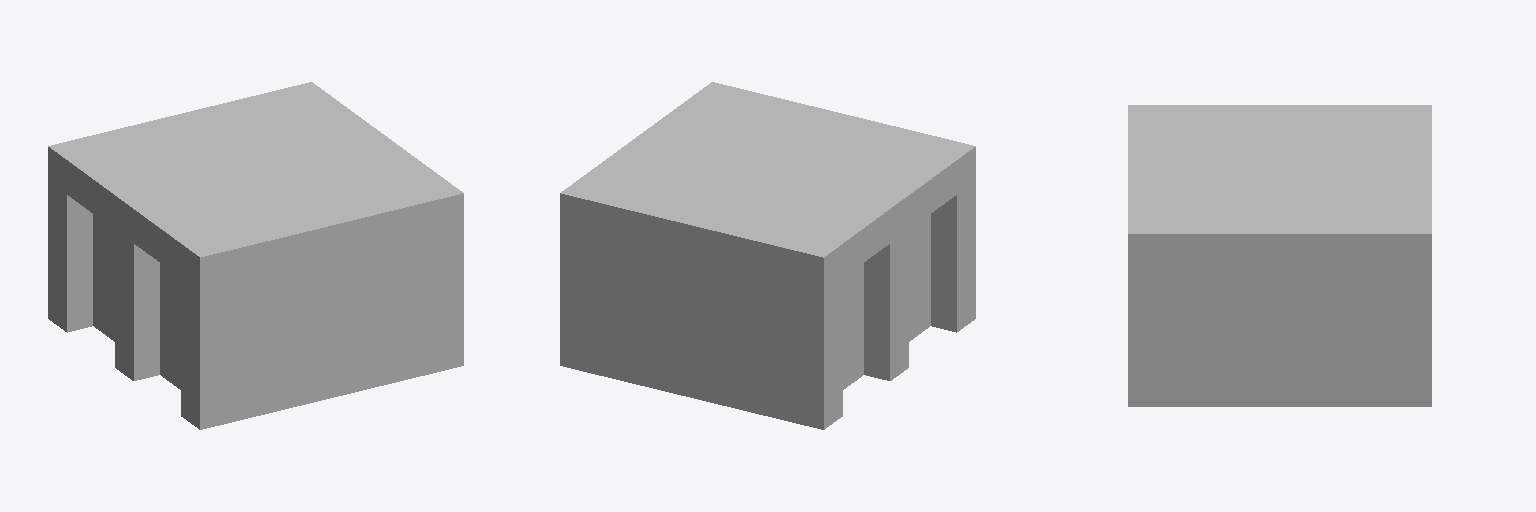
3 views of the same model, side by side, from view 1: azimuth 30°, elevation 25°; view 2: azimuth 150°, elevation 25°; view 3: azimuth 270°, elevation 25° (orthographic).
Visible parts, largest first — view 1: G-__555807_G-__555807_Brick, G-__555807_G-__555807_Glass; view 2: G-__555807_G-__555807_Brick, G-__555807_G-__555807_Glass; view 3: G-__555807_G-__555807_Brick.
Part boxes in pixels (x1,y1,x2,y2): G-__555807_G-__555807_Brick: (48, 82, 463, 429); G-__555807_G-__555807_Glass: (93, 214, 180, 389); G-__555807_G-__555807_Brick: (560, 82, 975, 429); G-__555807_G-__555807_Glass: (843, 214, 930, 389); G-__555807_G-__555807_Brick: (1128, 105, 1431, 406).
Bounding box in the file's own units: 1 × 0.625 × 1.